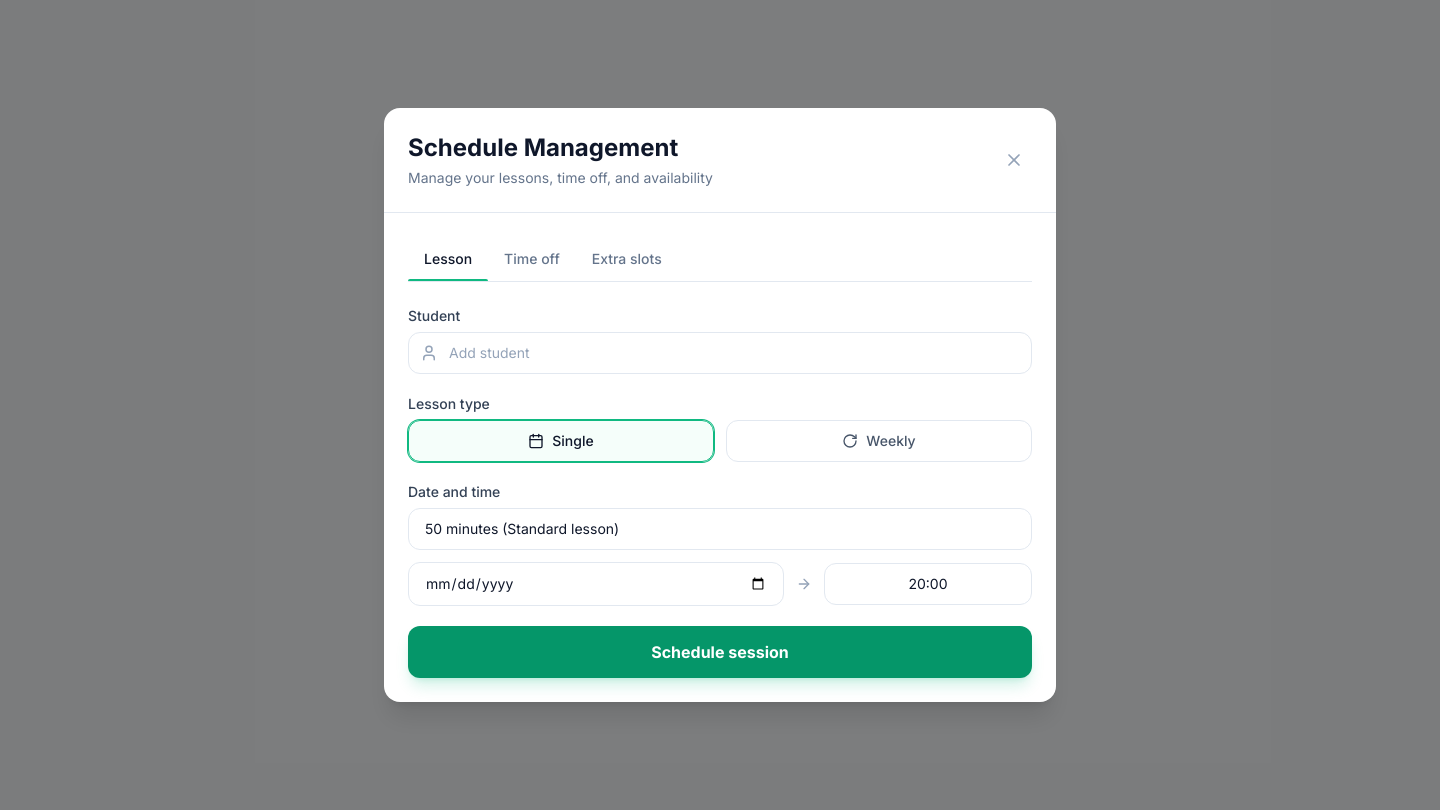
it: ScheduleManagerModal › tab navigation › shows Time off tab content when clicked
Click the button "Time off" at (532,259), box [488,237,576,281]
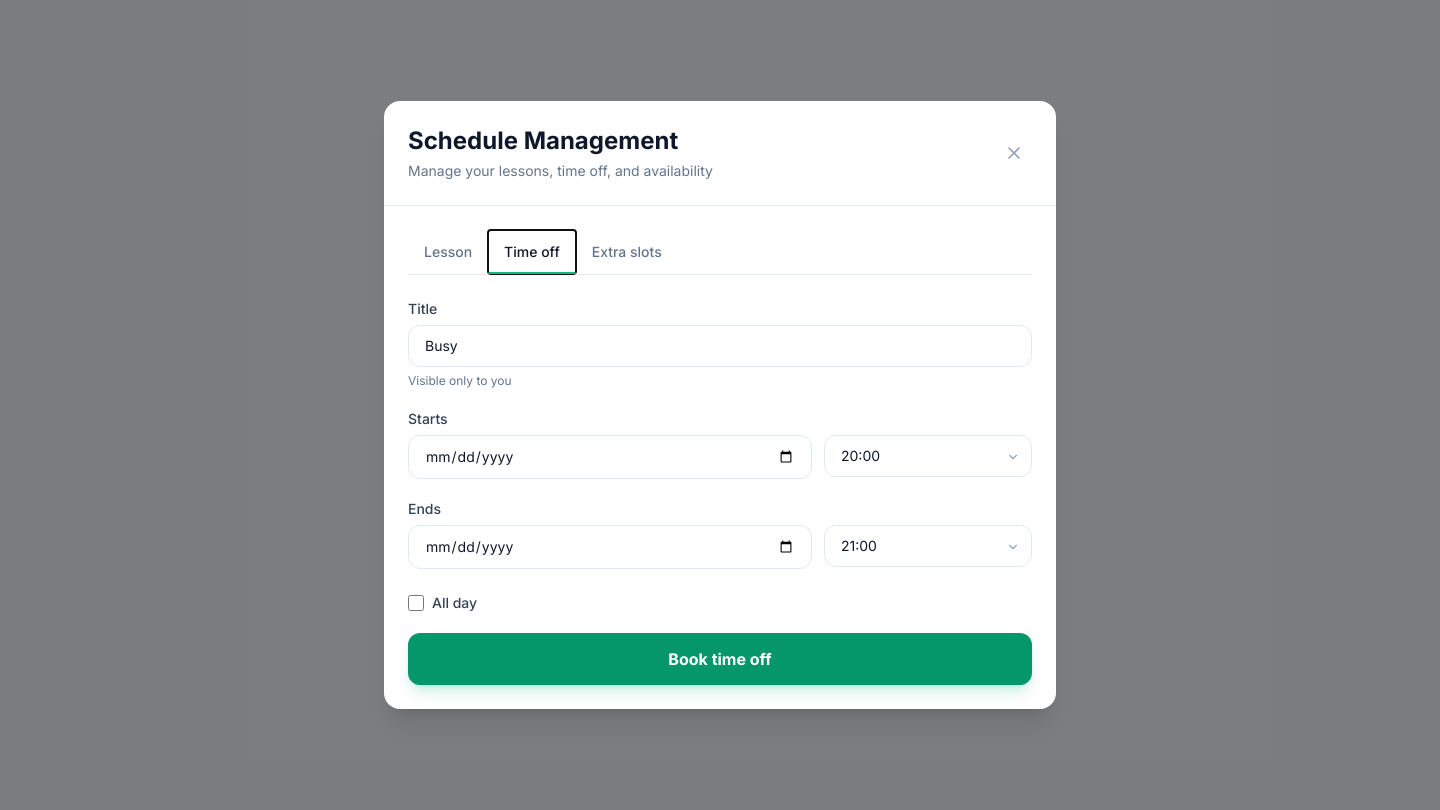
Now the field with placeholder "Busy" is shown, box [408,325,1032,367]
Now the button "Book time off" is shown, box [408,633,1032,685]
